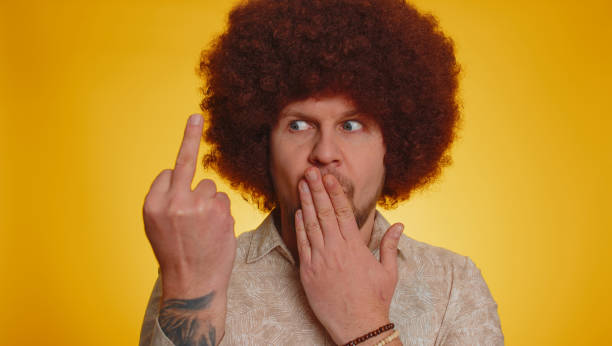insulting_gesture: (140, 110, 238, 279)
